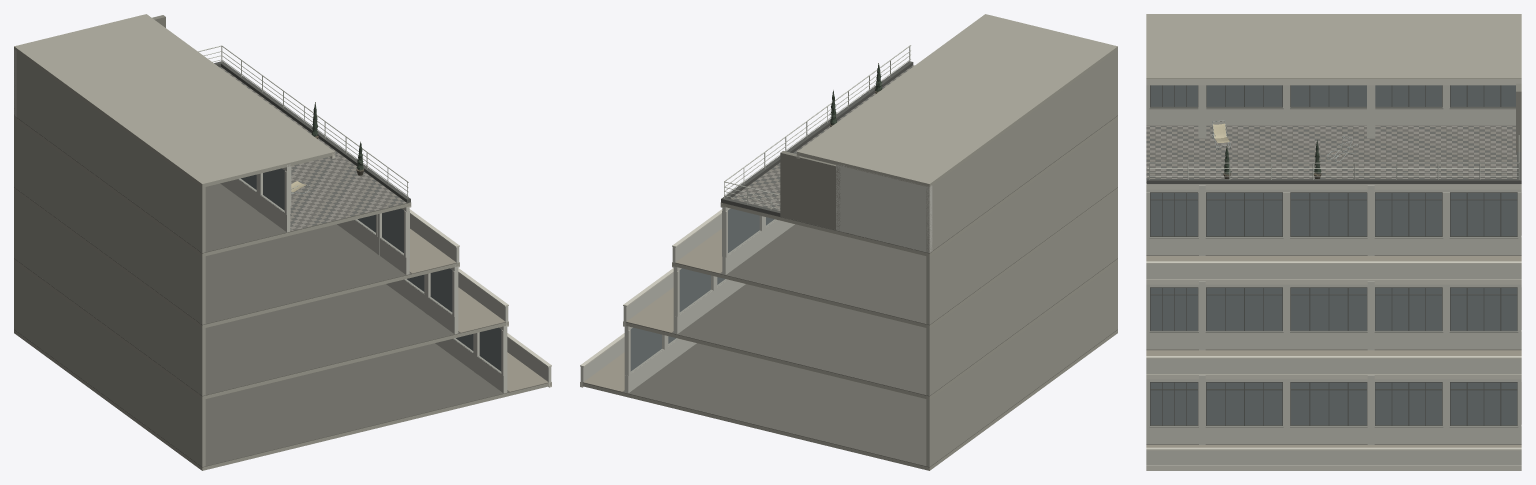
The model's file is changning-hongqiao-sanatorium-sun-terraces-lod.glb.
The picture shows the model from 3 angles, left to right: view 1: azimuth 30°, elevation 25°; view 2: azimuth 150°, elevation 25°; view 3: azimuth 270°, elevation 25°; orthographic projection.
Parts seen in each view (by area): view 1: 虹桥疗养院的四层退台、方格晒台与弯管躺椅; view 2: 虹桥疗养院的四层退台、方格晒台与弯管躺椅; view 3: 虹桥疗养院的四层退台、方格晒台与弯管躺椅.
Part boxes in pixels (x1,y1,x2,y2): 虹桥疗养院的四层退台、方格晒台与弯管躺椅: [14, 14, 551, 470]; 虹桥疗养院的四层退台、方格晒台与弯管躺椅: [580, 14, 1117, 470]; 虹桥疗养院的四层退台、方格晒台与弯管躺椅: [1146, 14, 1521, 470].
Bounding box in the file's own units: 16.72 × 13.17 × 15.59.
Materials: 24 (1 with a texture image).
